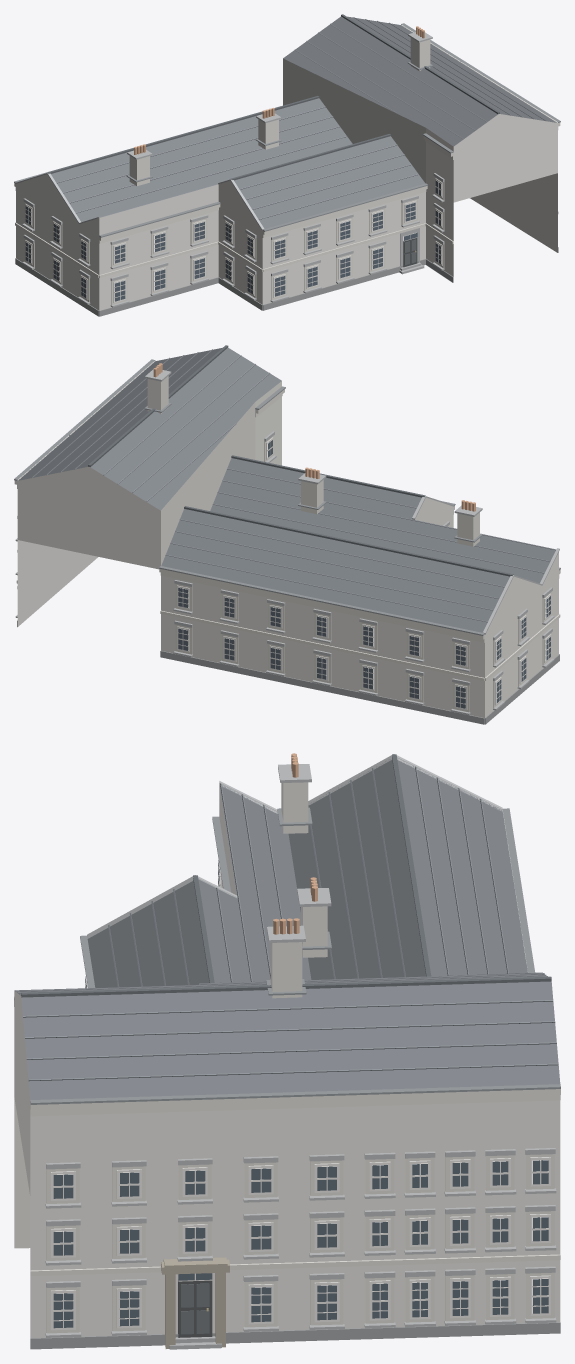
3 views of the same model, one above another, from view 1: azimuth 30°, elevation 25°; view 2: azimuth 150°, elevation 25°; view 3: azimuth 270°, elevation 25° (orthographic). The views are drawn at different scales.
Parts seen in each view (by area): view 1: harl, slate, string, dress_dark, slate_lt, frame, plinth, lead, slate_dk, chim_render; view 2: slate, harl, string, slate_lt, dress_dark, frame, plinth, slate_dk, lead, chim_render; view 3: slate, harl, string, dress_dark, frame, slate_lt, lead, plinth, slate_dk, chim_render, doorcase, door_dark_p (+2 smaller).
Part boxes in pixels (x1=…): harl: x1=16, y1=58, x2=557, y2=310; slate: x1=51, y1=16, x2=556, y2=228; string: x1=14, y1=25, x2=560, y2=305; dress_dark: x1=15, y1=32, x2=444, y2=307; slate_lt: x1=56, y1=17, x2=546, y2=219; frame: x1=25, y1=178, x2=442, y2=302; plinth: x1=15, y1=247, x2=558, y2=316; lead: x1=14, y1=23, x2=560, y2=237; slate_dk: x1=47, y1=14, x2=499, y2=180; chim_render: x1=129, y1=38, x2=430, y2=185; slate: x1=18, y1=347, x2=555, y2=632; harl: x1=17, y1=381, x2=558, y2=717; string: x1=14, y1=361, x2=560, y2=712; slate_lt: x1=31, y1=349, x2=556, y2=622; dress_dark: x1=15, y1=369, x2=559, y2=714; frame: x1=177, y1=437, x2=551, y2=709; plinth: x1=17, y1=620, x2=559, y2=724; slate_dk: x1=88, y1=345, x2=513, y2=576; lead: x1=14, y1=359, x2=560, y2=635; chim_render: x1=147, y1=376, x2=479, y2=546; slate: x1=15, y1=759, x2=560, y2=1099; harl: x1=14, y1=785, x2=560, y2=1337; string: x1=14, y1=811, x2=560, y2=1333; dress_dark: x1=45, y1=754, x2=556, y2=1349; frame: x1=51, y1=865, x2=550, y2=1330; slate_lt: x1=15, y1=766, x2=558, y2=1081; lead: x1=14, y1=807, x2=560, y2=1104; plinth: x1=30, y1=1322, x2=560, y2=1349; slate_dk: x1=21, y1=754, x2=551, y2=997; chim_render: x1=270, y1=782, x2=327, y2=998; doorcase: x1=161, y1=1257, x2=229, y2=1348; door_dark_p: x1=181, y1=1283, x2=209, y2=1334.
Size of the model in its own units: 35.35 by 15.35 by 20.89.
